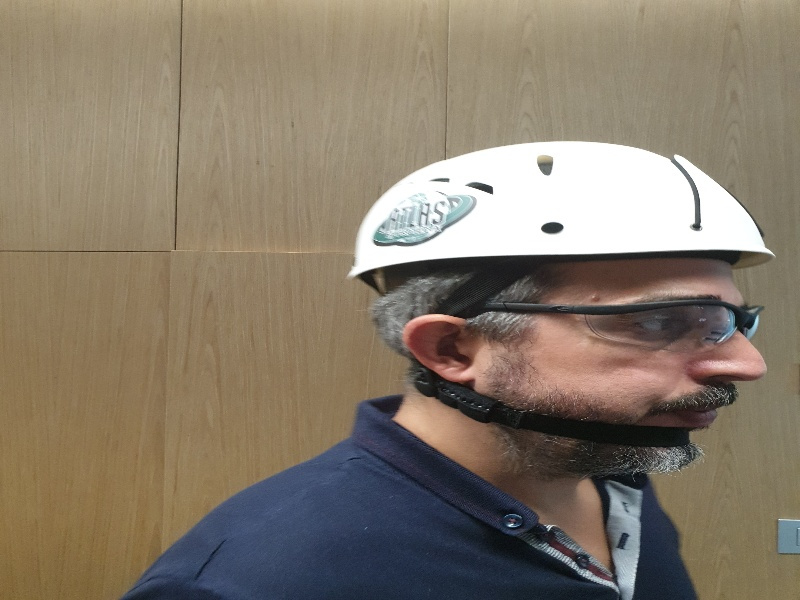Baret: (353, 139, 776, 276)
Gozluk: (466, 296, 764, 354)
